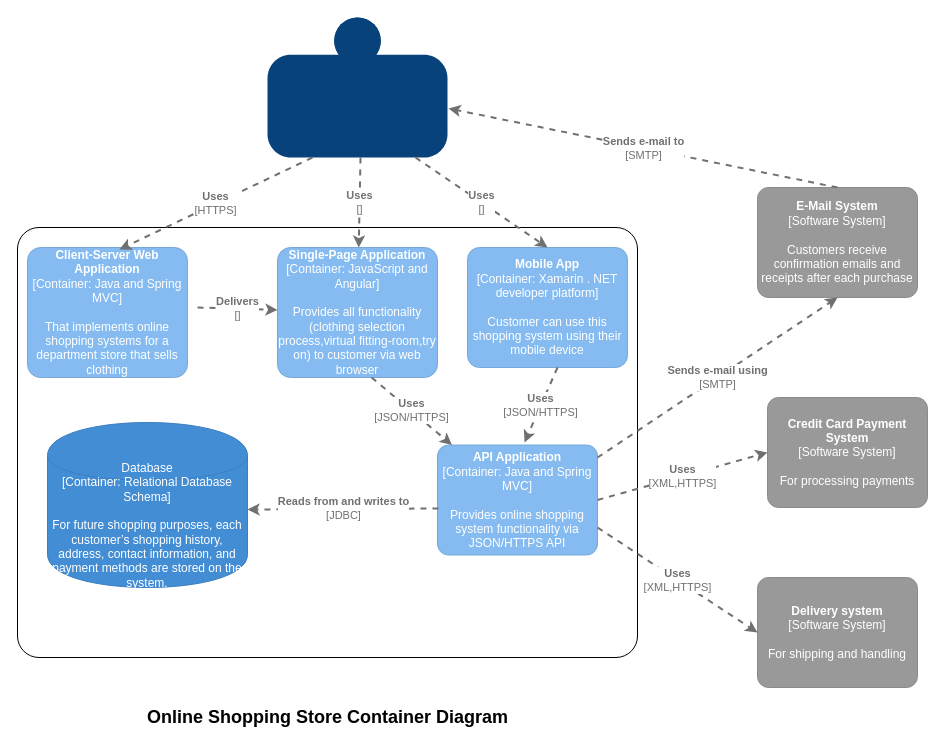
Image size: 945x745. Some labels were removed from this diagram. Each missing label, with the box of its shape:
Online Shopping Customer [Person]: (267, 17, 447, 157)
Online Shopping Store [Software System]: (16, 226, 638, 658)
